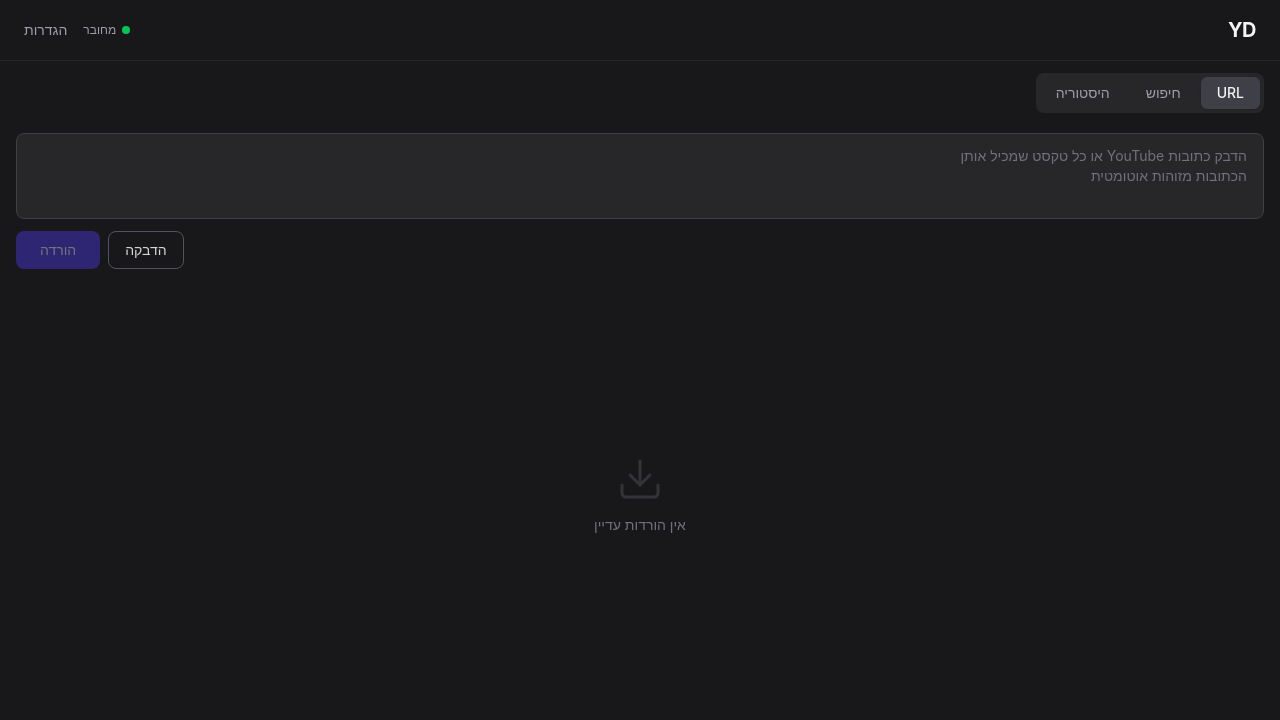
Scenario: App › switches back to URL mode when URL tab clicked
The width and height of the screenshot is (1280, 720).
expect the tab "URL" is shown: met, box [1201, 77, 1260, 109]
Click the tab "חיפוש" at x=1163, y=93, box [1130, 77, 1197, 109]
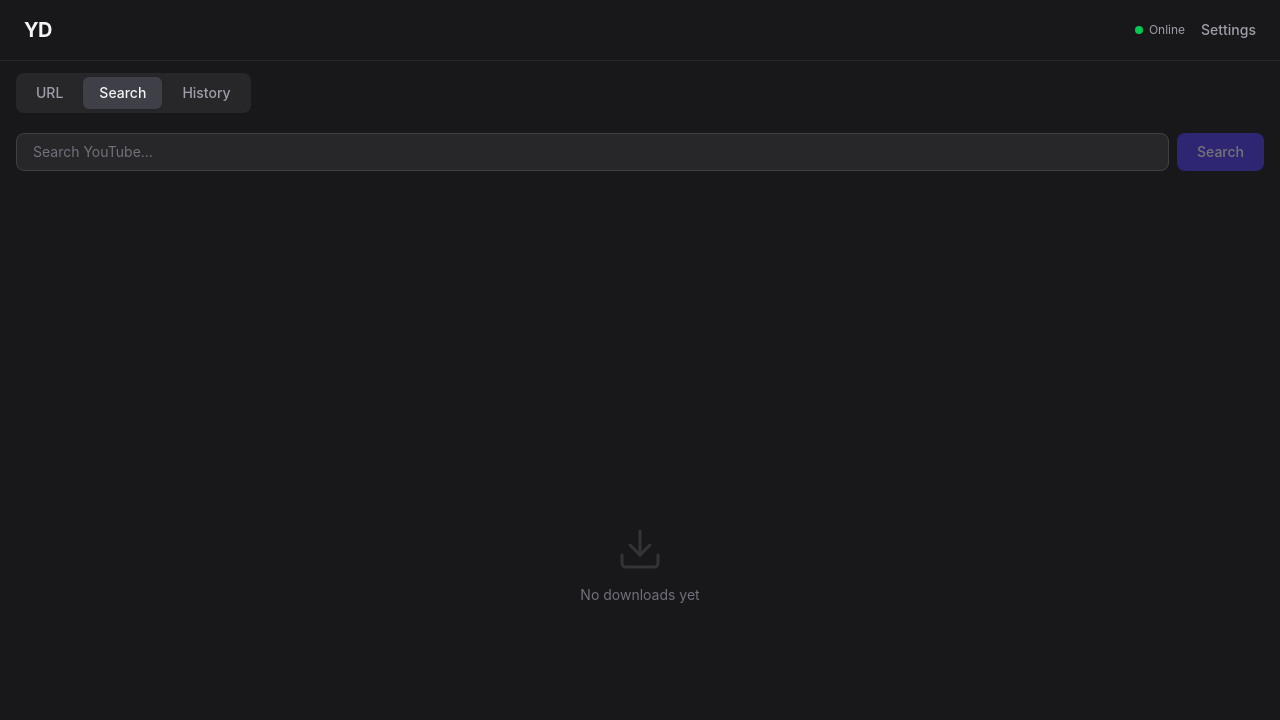
expect the field with placeholder "Search YouTube..." is shown: met, box [16, 133, 1169, 171]
Click the tab "URL" at x=50, y=93, box [20, 77, 79, 109]
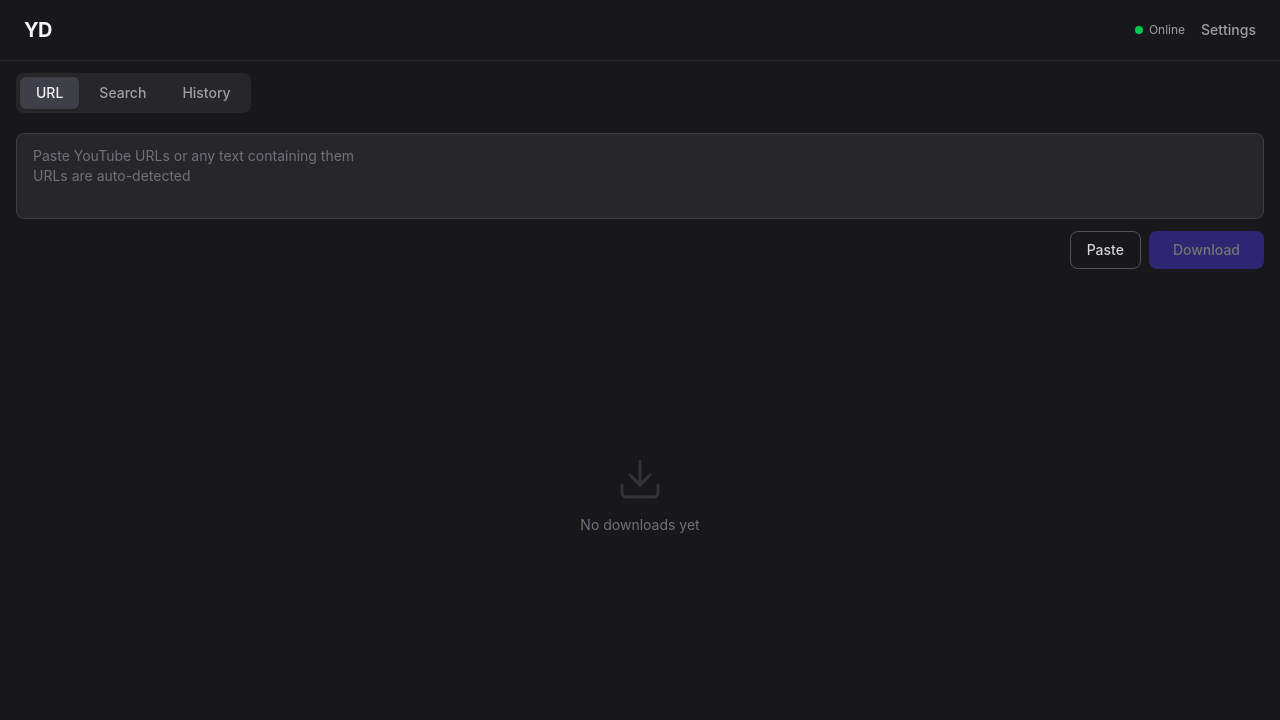
expect the text box is shown: met, box [16, 133, 1264, 219]
